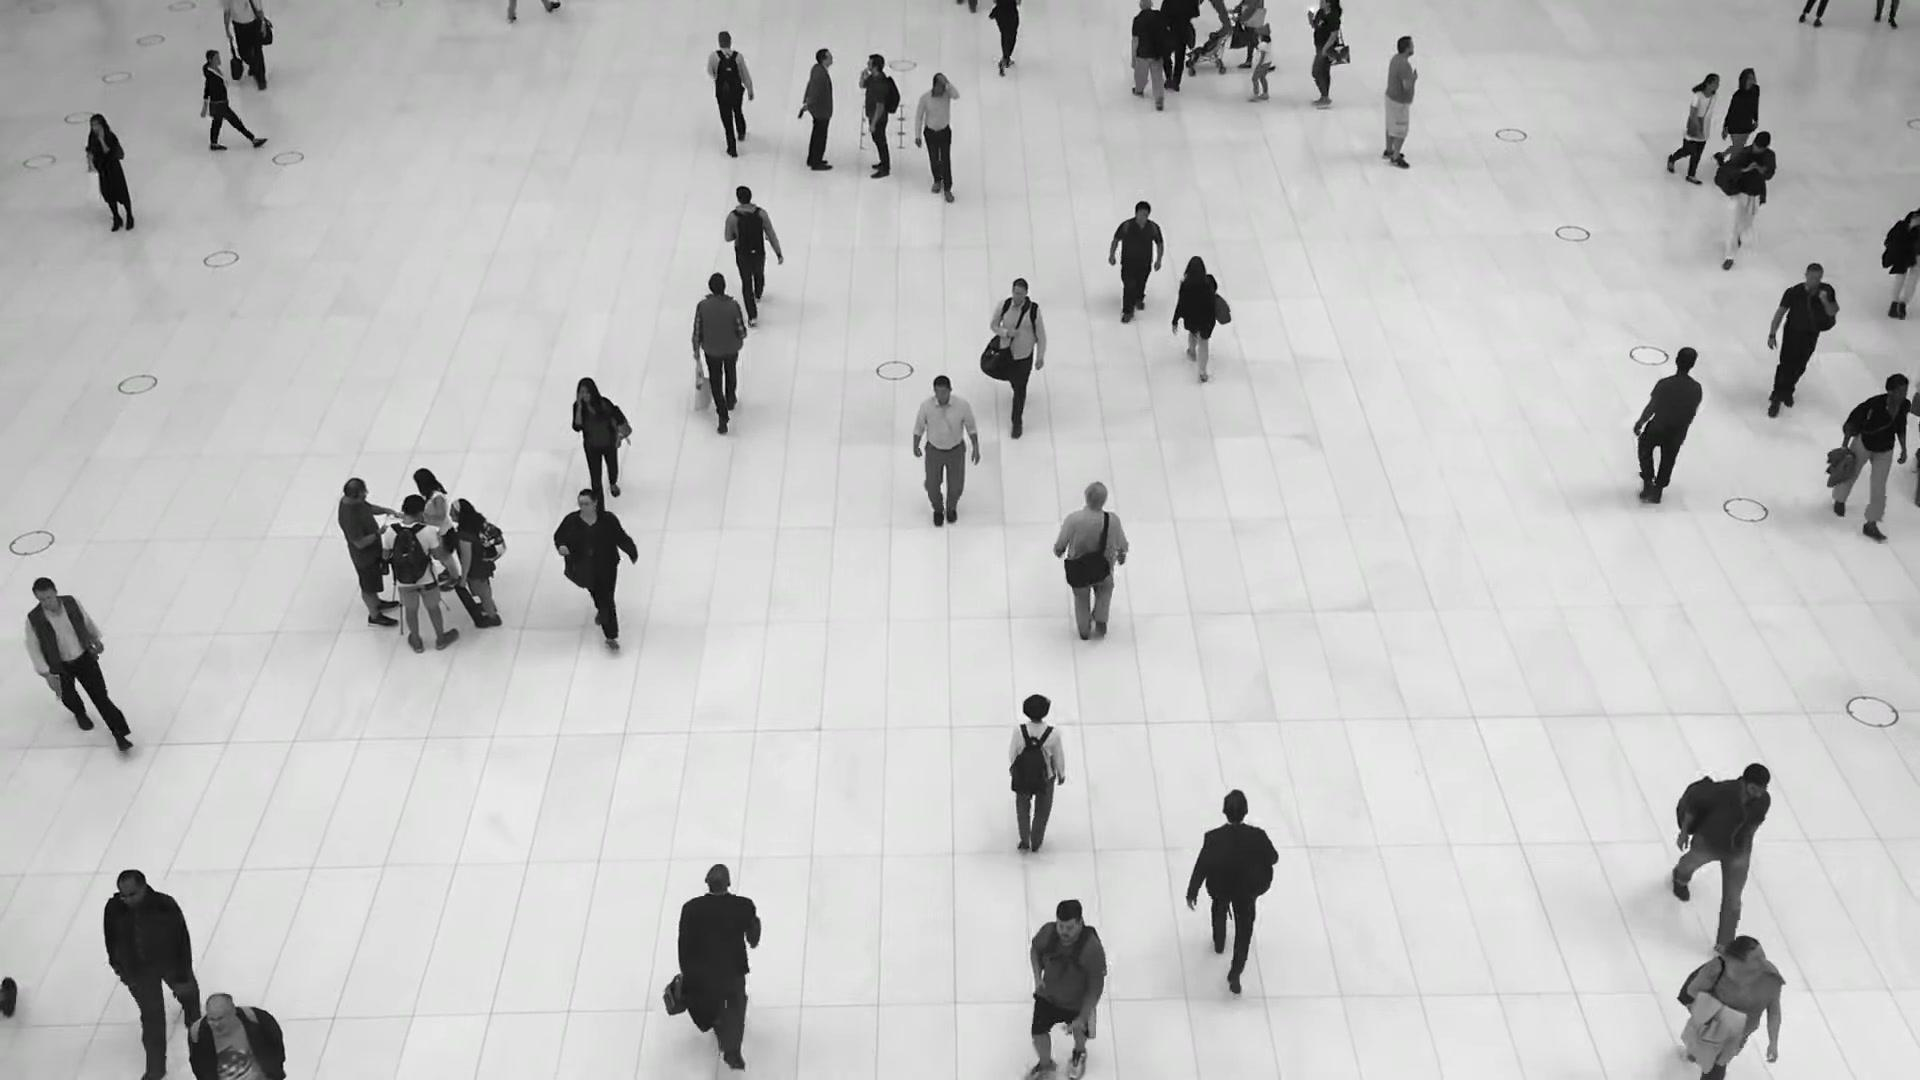person: (100, 868, 199, 1080), (665, 864, 762, 1076), (1188, 789, 1279, 1002), (24, 576, 133, 750), (1675, 762, 1772, 948), (1676, 936, 1785, 1080), (1025, 900, 1107, 1079), (553, 488, 636, 650), (1836, 372, 1910, 539), (382, 494, 458, 653), (1054, 482, 1128, 640), (1766, 263, 1839, 415), (1632, 345, 1702, 502), (912, 375, 980, 528), (1008, 693, 1067, 856), (337, 477, 400, 629), (690, 272, 747, 435), (185, 992, 287, 1080), (989, 278, 1046, 438), (1715, 131, 1776, 271), (724, 184, 781, 325), (571, 376, 630, 500), (449, 498, 502, 628), (1110, 199, 1164, 320), (202, 47, 264, 151), (1667, 73, 1721, 187), (706, 29, 754, 155), (913, 71, 959, 201), (85, 112, 134, 231), (412, 467, 459, 592), (1172, 255, 1218, 382), (1381, 34, 1420, 168), (858, 53, 900, 180), (1127, 0, 1174, 106), (1713, 68, 1760, 165), (799, 48, 834, 171), (1305, 0, 1342, 108), (1248, 30, 1274, 103)
